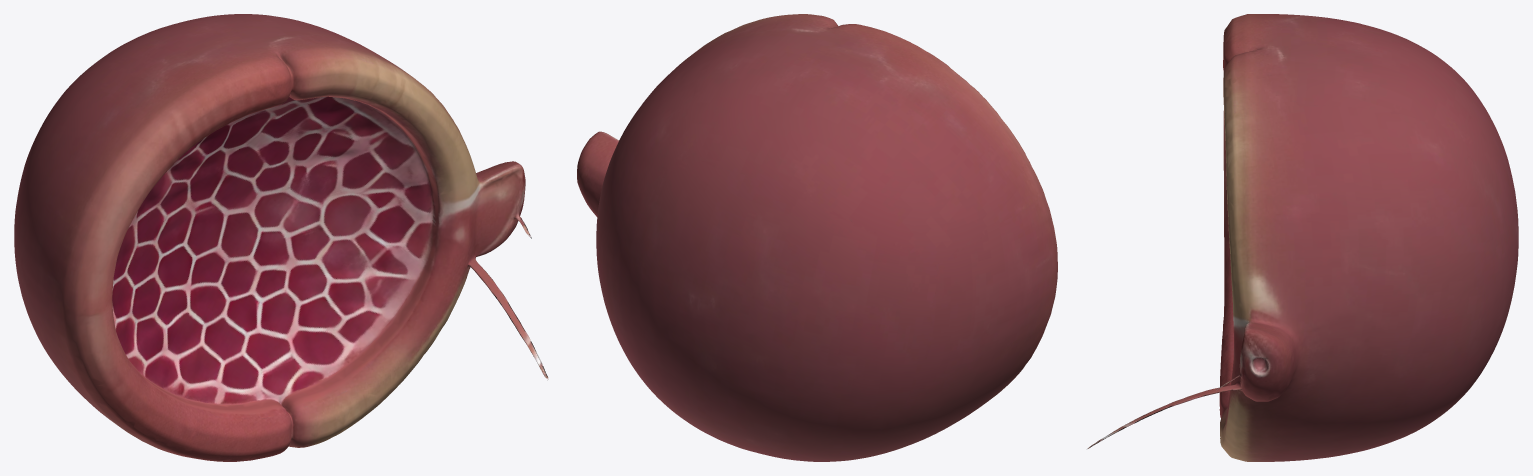
File: cow_reticulum.glb
3 renders of one model, left to right at view 1: azimuth 30°, elevation 25°; view 2: azimuth 150°, elevation 25°; view 3: azimuth 270°, elevation 25°, orthographic.
Parts seen in each view (by area): view 1: model; view 2: model; view 3: model.
Part boxes in pixels (x1,y1,x2,y2): model: (14,14,548,461); model: (577,14,1057,461); model: (1086,14,1518,461).
Bounding box in the file's own units: 1.9 × 1.54 × 1.53.
1 material, 1 textured.
